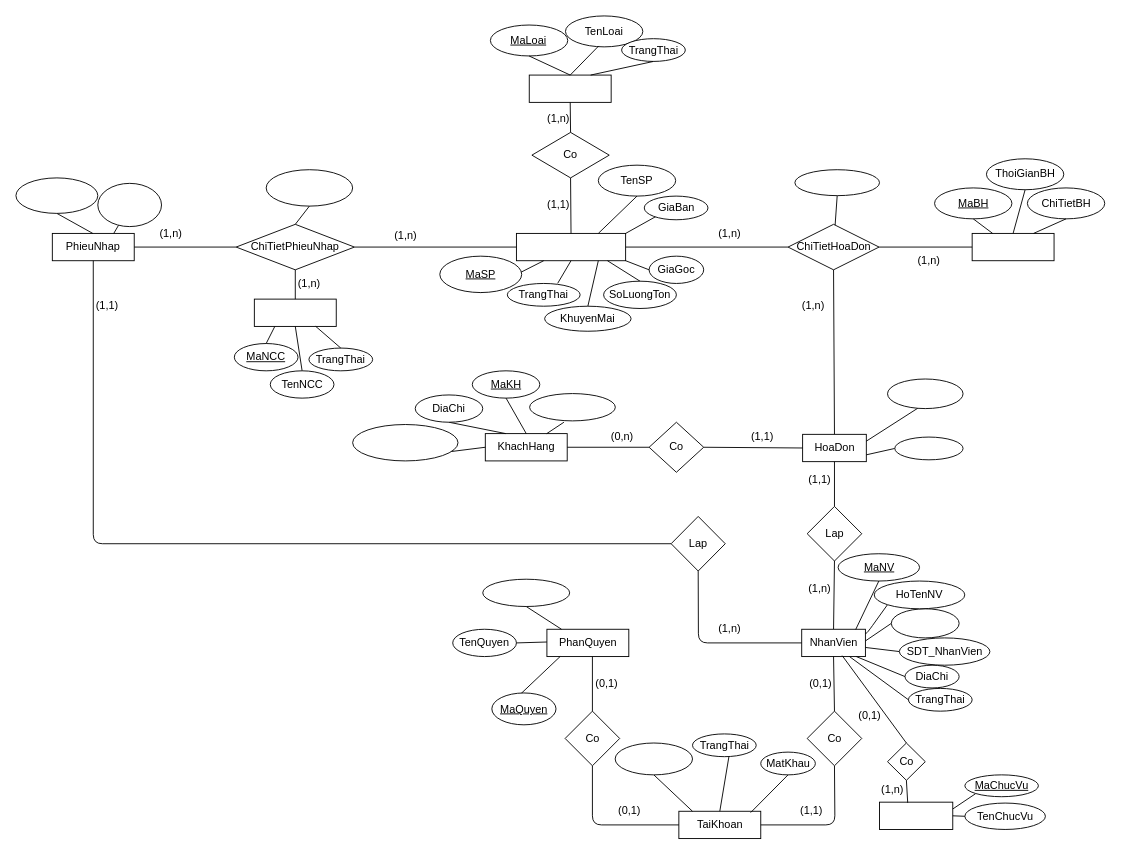
Image size: 1121x854. Some labels were removed from this diagram. Each missing label, with the box of its shape:
BaoHanh: (971, 233, 1054, 261)
ChiTietQuyen: (482, 578, 570, 607)
ChucVu: (879, 801, 953, 829)
HoTenKhachHang: (352, 424, 458, 461)
Loai: (528, 74, 611, 102)
MaHD: (887, 378, 963, 409)
MaPhieu: (97, 182, 162, 227)
NgayLap: (894, 436, 963, 460)
NgayNhap: (15, 177, 98, 213)
NgaySinh: (890, 608, 959, 638)
NhaCungCap: (253, 298, 336, 326)
SanPham: (516, 233, 626, 261)
SoDienThoai: (529, 393, 615, 421)
SoLuongMua: (794, 169, 880, 196)
SoLuongNhap: (265, 169, 353, 206)
TenTK: (614, 742, 693, 775)
